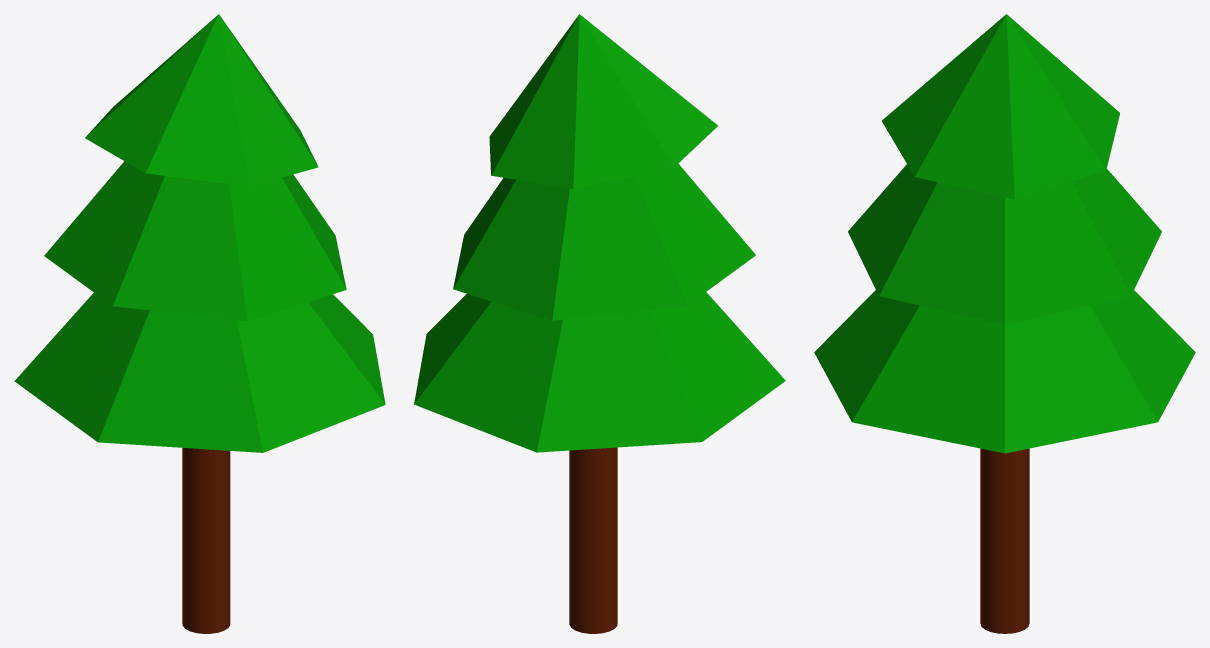
File: tree1.fbx
The picture shows the model from 3 angles, left to right: view 1: azimuth 30°, elevation 25°; view 2: azimuth 150°, elevation 25°; view 3: azimuth 270°, elevation 25°; orthographic projection.
Visible parts, largest first — view 1: flower, flower1, flower2, wood; view 2: flower, flower1, flower2, wood; view 3: flower, flower1, flower2, wood.
Part boxes in pixels (x1,y1,x2,y2): flower: (14, 293, 385, 452); flower1: (44, 161, 346, 321); flower2: (85, 14, 318, 186); wood: (182, 448, 230, 633); flower: (414, 292, 785, 452); flower1: (453, 163, 755, 320); flower2: (489, 14, 717, 188); wood: (569, 447, 617, 633); flower: (814, 290, 1195, 453); flower1: (848, 164, 1161, 324); flower2: (882, 14, 1119, 199); wood: (980, 448, 1029, 633).
Size of the model in its own units: 2.05 by 3.74 by 2.1.
